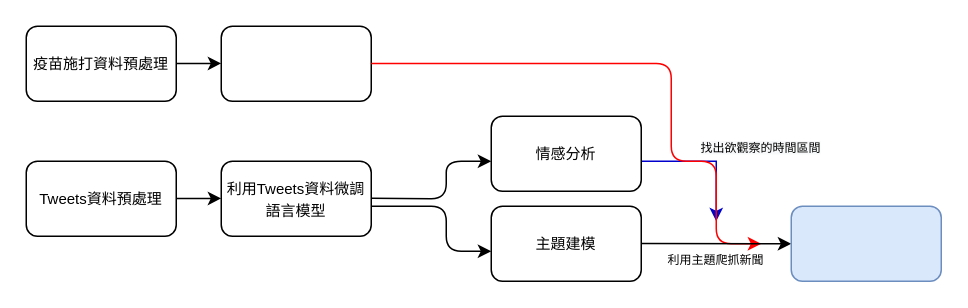
Some shapes in this 968 by 308 pixel diagram are drawn without their labels. Here are the shapes that lost their labels. From the top down, the centre of each, then its label:
At (x=295, y=63): "趨勢分析".
At (x=865, y=243): "抽取式多文本摘要生成".
